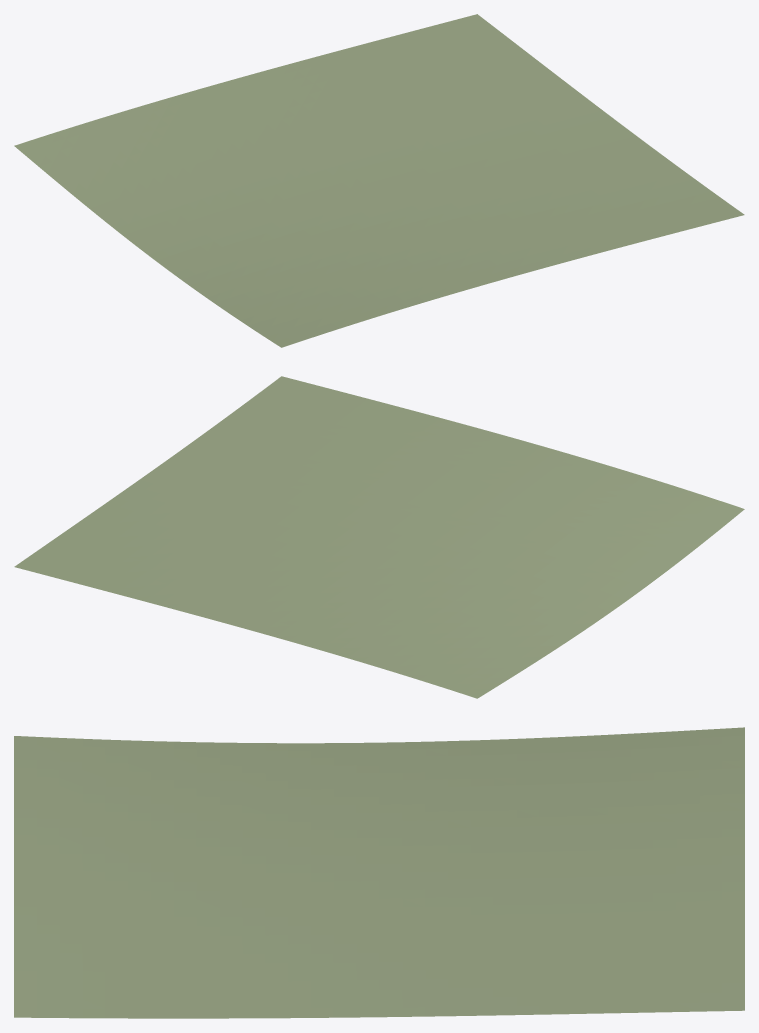
Rendered from expanse-28-10.glb.
3 renders of one model, top to bottom at view 1: azimuth 30°, elevation 25°; view 2: azimuth 150°, elevation 25°; view 3: azimuth 270°, elevation 25°, orthographic. The views are drawn at different scales.
Parts seen in each view (by area): view 1: expanse-28-10; view 2: expanse-28-10; view 3: expanse-28-10.
Part boxes in pixels (left/top/right/bottom): expanse-28-10: left=14, top=14, right=744, bottom=347; expanse-28-10: left=14, top=376, right=744, bottom=698; expanse-28-10: left=14, top=727, right=744, bottom=1018.
Size of the model in its own units: 256 by 15.99 by 256.
